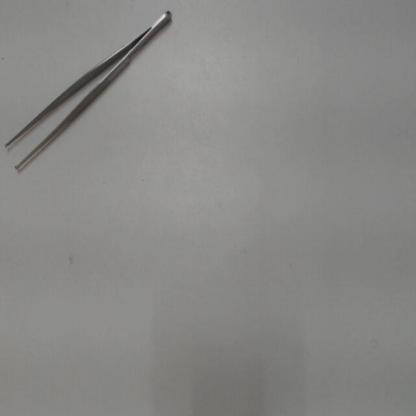Gillies Toothed Dissector: (0, 0, 184, 181)
